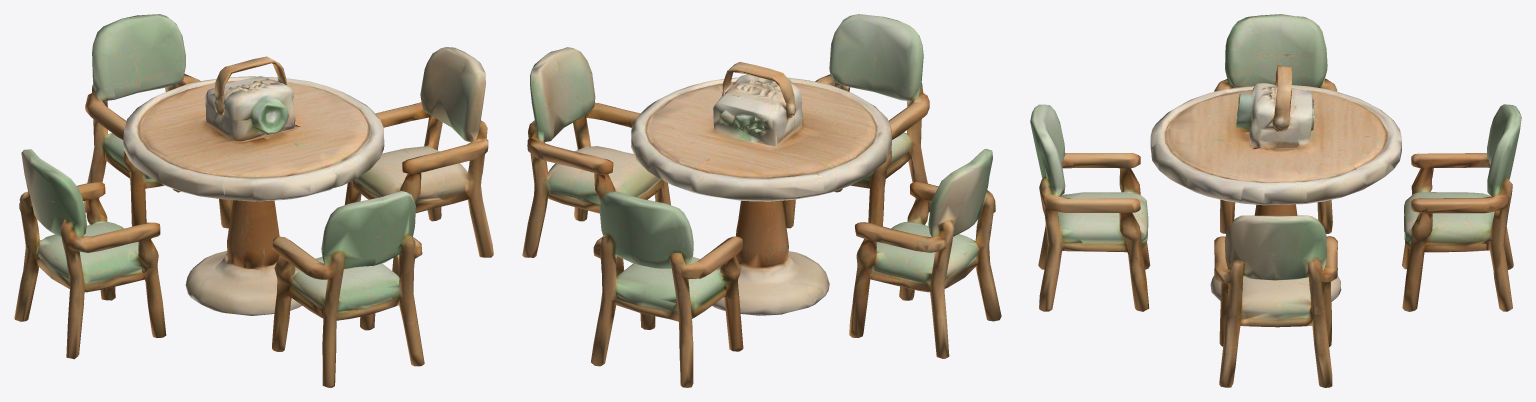
The model's file is meeting_table.glb.
3 renders of one model, left to right at view 1: azimuth 30°, elevation 25°; view 2: azimuth 150°, elevation 25°; view 3: azimuth 270°, elevation 25°, orthographic. The views are drawn at different scales.
Bounding box in the file's own units: 1.9 × 0.9205 × 1.9.
1 material, 1 textured.
